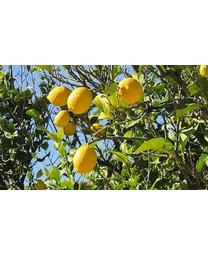lemon: (67, 88, 95, 115), (117, 78, 144, 104), (74, 147, 98, 174), (47, 87, 72, 106), (54, 110, 71, 125)
